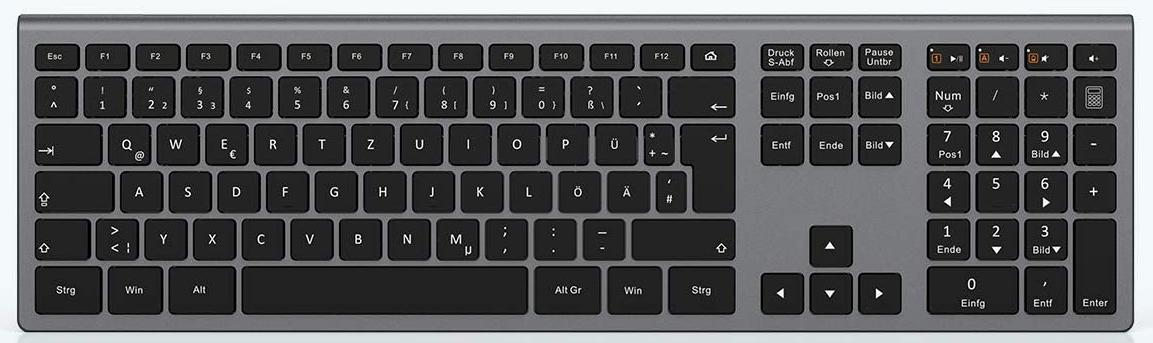0: (519, 72, 563, 116)
1: (80, 72, 124, 115)
2: (129, 72, 173, 115)
3: (177, 72, 222, 115)
4: (227, 72, 270, 115)
5: (275, 72, 319, 115)
6: (324, 72, 368, 115)
7: (373, 73, 417, 116)
8: (421, 73, 466, 116)
9: (470, 73, 515, 115)
a: (117, 167, 161, 210)
accent: (616, 72, 660, 115)
ae: (604, 166, 648, 211)
alt-left: (165, 261, 235, 312)
altgr-right: (530, 261, 600, 312)
b: (335, 214, 380, 258)
c: (238, 215, 283, 258)
caret: (31, 73, 75, 115)
comma: (485, 218, 529, 262)
d: (214, 167, 258, 211)
del: (664, 72, 733, 115)
e: (202, 119, 246, 163)
enter: (677, 119, 734, 211)
f: (263, 167, 306, 210)
g: (311, 167, 355, 210)
h: (360, 166, 404, 210)
hash: (652, 166, 684, 210)
i: (445, 119, 489, 162)
j: (409, 166, 452, 210)
k: (457, 166, 501, 211)
keyboard: (10, 8, 1142, 335)
l: (509, 170, 552, 215)
less: (91, 214, 137, 258)
m: (432, 214, 477, 259)
minus: (578, 215, 623, 257)
n: (384, 214, 429, 258)
o: (495, 123, 540, 167)
oe: (555, 167, 599, 210)
p: (543, 119, 586, 163)
plus: (640, 119, 671, 163)
point: (530, 214, 575, 257)
q: (104, 119, 149, 163)
r: (251, 119, 294, 163)
s: (165, 167, 209, 210)
shift-left: (35, 216, 91, 260)
shift-lock: (34, 169, 115, 213)
shift-right: (629, 214, 733, 258)
space: (238, 262, 526, 314)
ss: (567, 72, 612, 115)
strg-left: (29, 261, 100, 313)
strg-right: (664, 261, 735, 312)
t: (300, 119, 343, 162)
tab: (31, 119, 100, 163)
u: (397, 119, 441, 163)
ue: (592, 119, 635, 163)
v: (287, 214, 332, 258)
w: (153, 119, 197, 163)
x: (190, 215, 234, 258)
y: (141, 214, 185, 257)
z: (348, 119, 392, 163)
